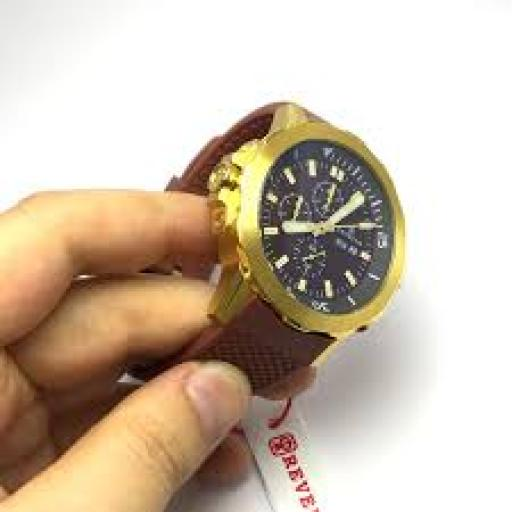KolSaati: (130, 90, 413, 424)
